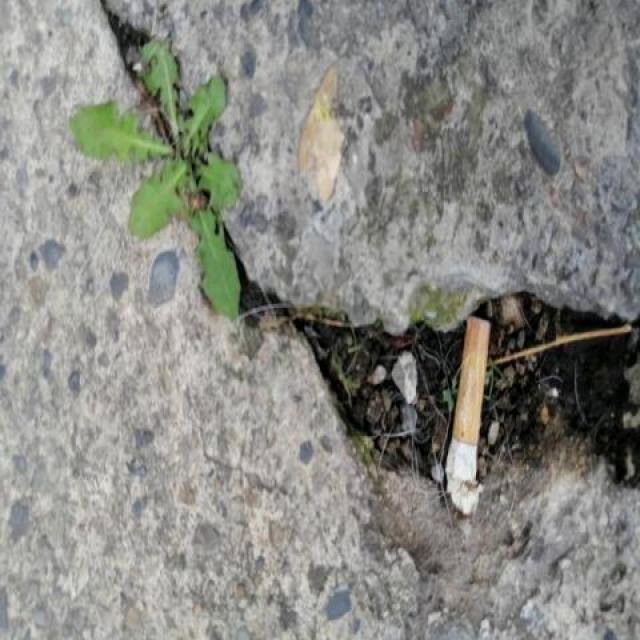non-organic waste: (440, 309, 500, 527)
